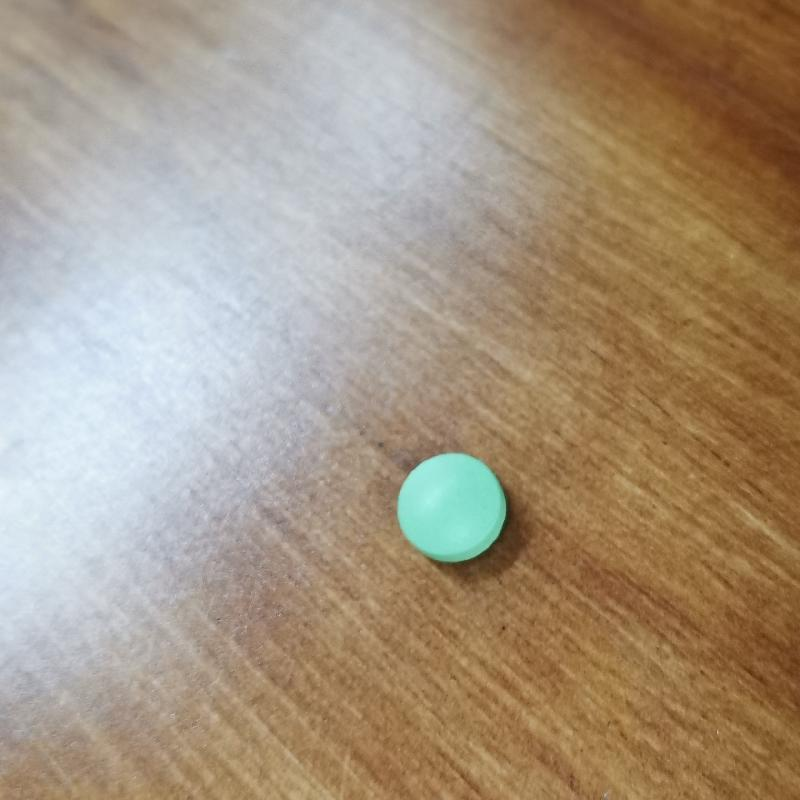pills: (384, 441, 536, 586)
